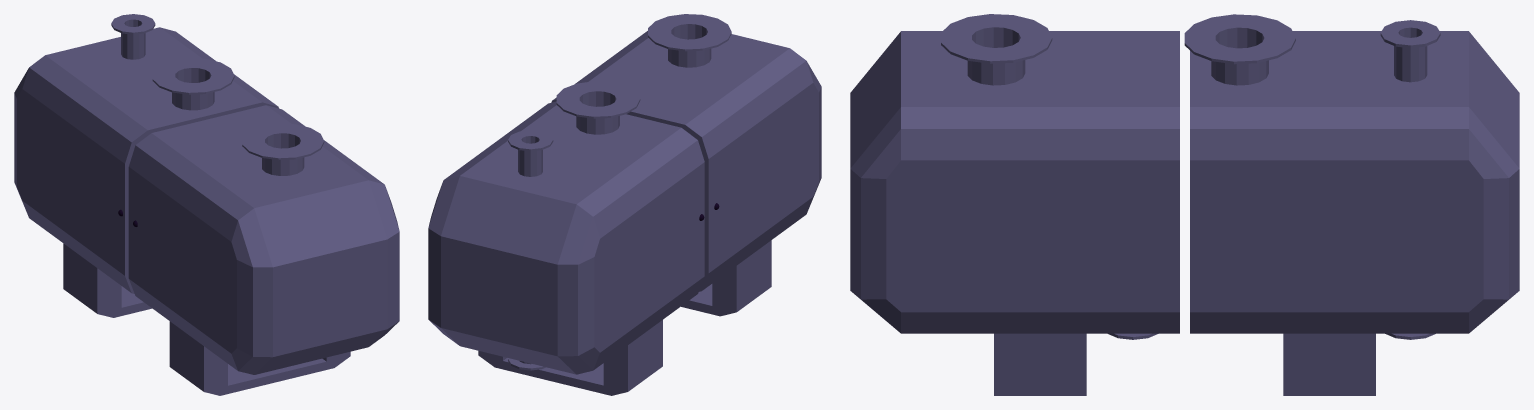
Rendered from pressure vessel vvertical.fbx.
The picture shows the model from 3 angles, left to right: view 1: azimuth 30°, elevation 25°; view 2: azimuth 150°, elevation 25°; view 3: azimuth 270°, elevation 25°; orthographic projection. The views are drawn at different scales.
Parts seen in each view (by area): view 1: 2pool.001, 2pool, suur toru.001, suur toru, peenem toru; view 2: 2pool, 2pool.001, suur toru.001, suur toru, peenem toru; view 3: 2pool.001, 2pool, suur toru.001, suur toru, peenem toru.
Part boxes in pixels (x1,y1,x2,y2): 2pool.001: (128, 105, 399, 395); 2pool: (14, 27, 278, 317); suur toru.001: (242, 123, 324, 175); suur toru: (152, 58, 234, 110); peenem toru: (111, 14, 155, 59); 2pool: (428, 101, 704, 395); 2pool.001: (551, 31, 821, 316); suur toru.001: (648, 14, 731, 67); suur toru: (556, 81, 640, 134); peenem toru: (508, 130, 553, 176); 2pool.001: (850, 31, 1179, 395); 2pool: (1190, 31, 1519, 395); suur toru.001: (941, 14, 1052, 85); suur toru: (1184, 14, 1295, 85); peenem toru: (1380, 20, 1440, 82).
Bounding box in the file's own units: 321 × 459 × 840.
